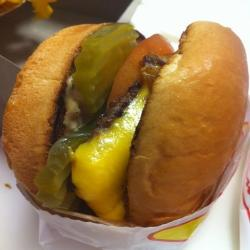burger: (1, 13, 246, 242)
